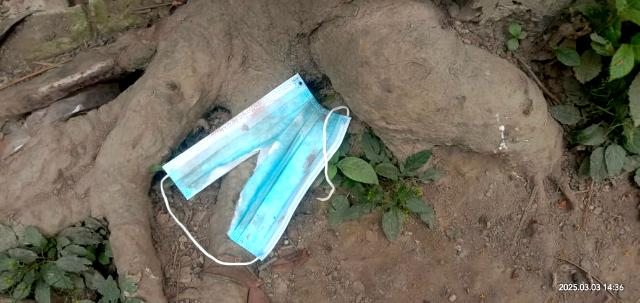mask: (164, 48, 382, 265)
